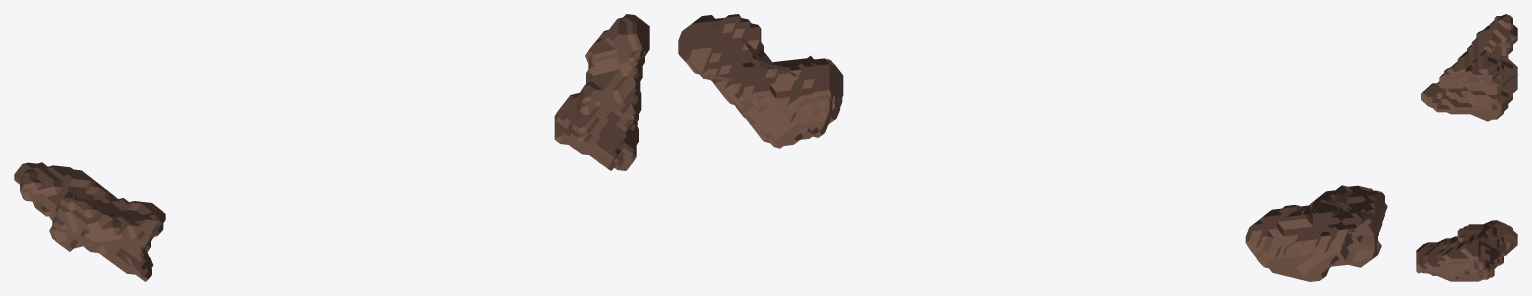
The model's file is region_0184_Vmvr__ventral_trigeminal_motor_root_.glb.
3 renders of one model, left to right at view 1: azimuth 30°, elevation 25°; view 2: azimuth 150°, elevation 25°; view 3: azimuth 270°, elevation 25°, orthographic. The views are drawn at different scales.
Parts seen in each view (by area): view 1: world; view 2: world; view 3: world.
Boxes of the visible parts, box(x1,y1,x2,y2) form: world: box(14, 14, 649, 281); world: box(678, 14, 1387, 281); world: box(1416, 14, 1517, 281).
Size of the model in its own units: 0.904 by 0.152 by 0.176.
